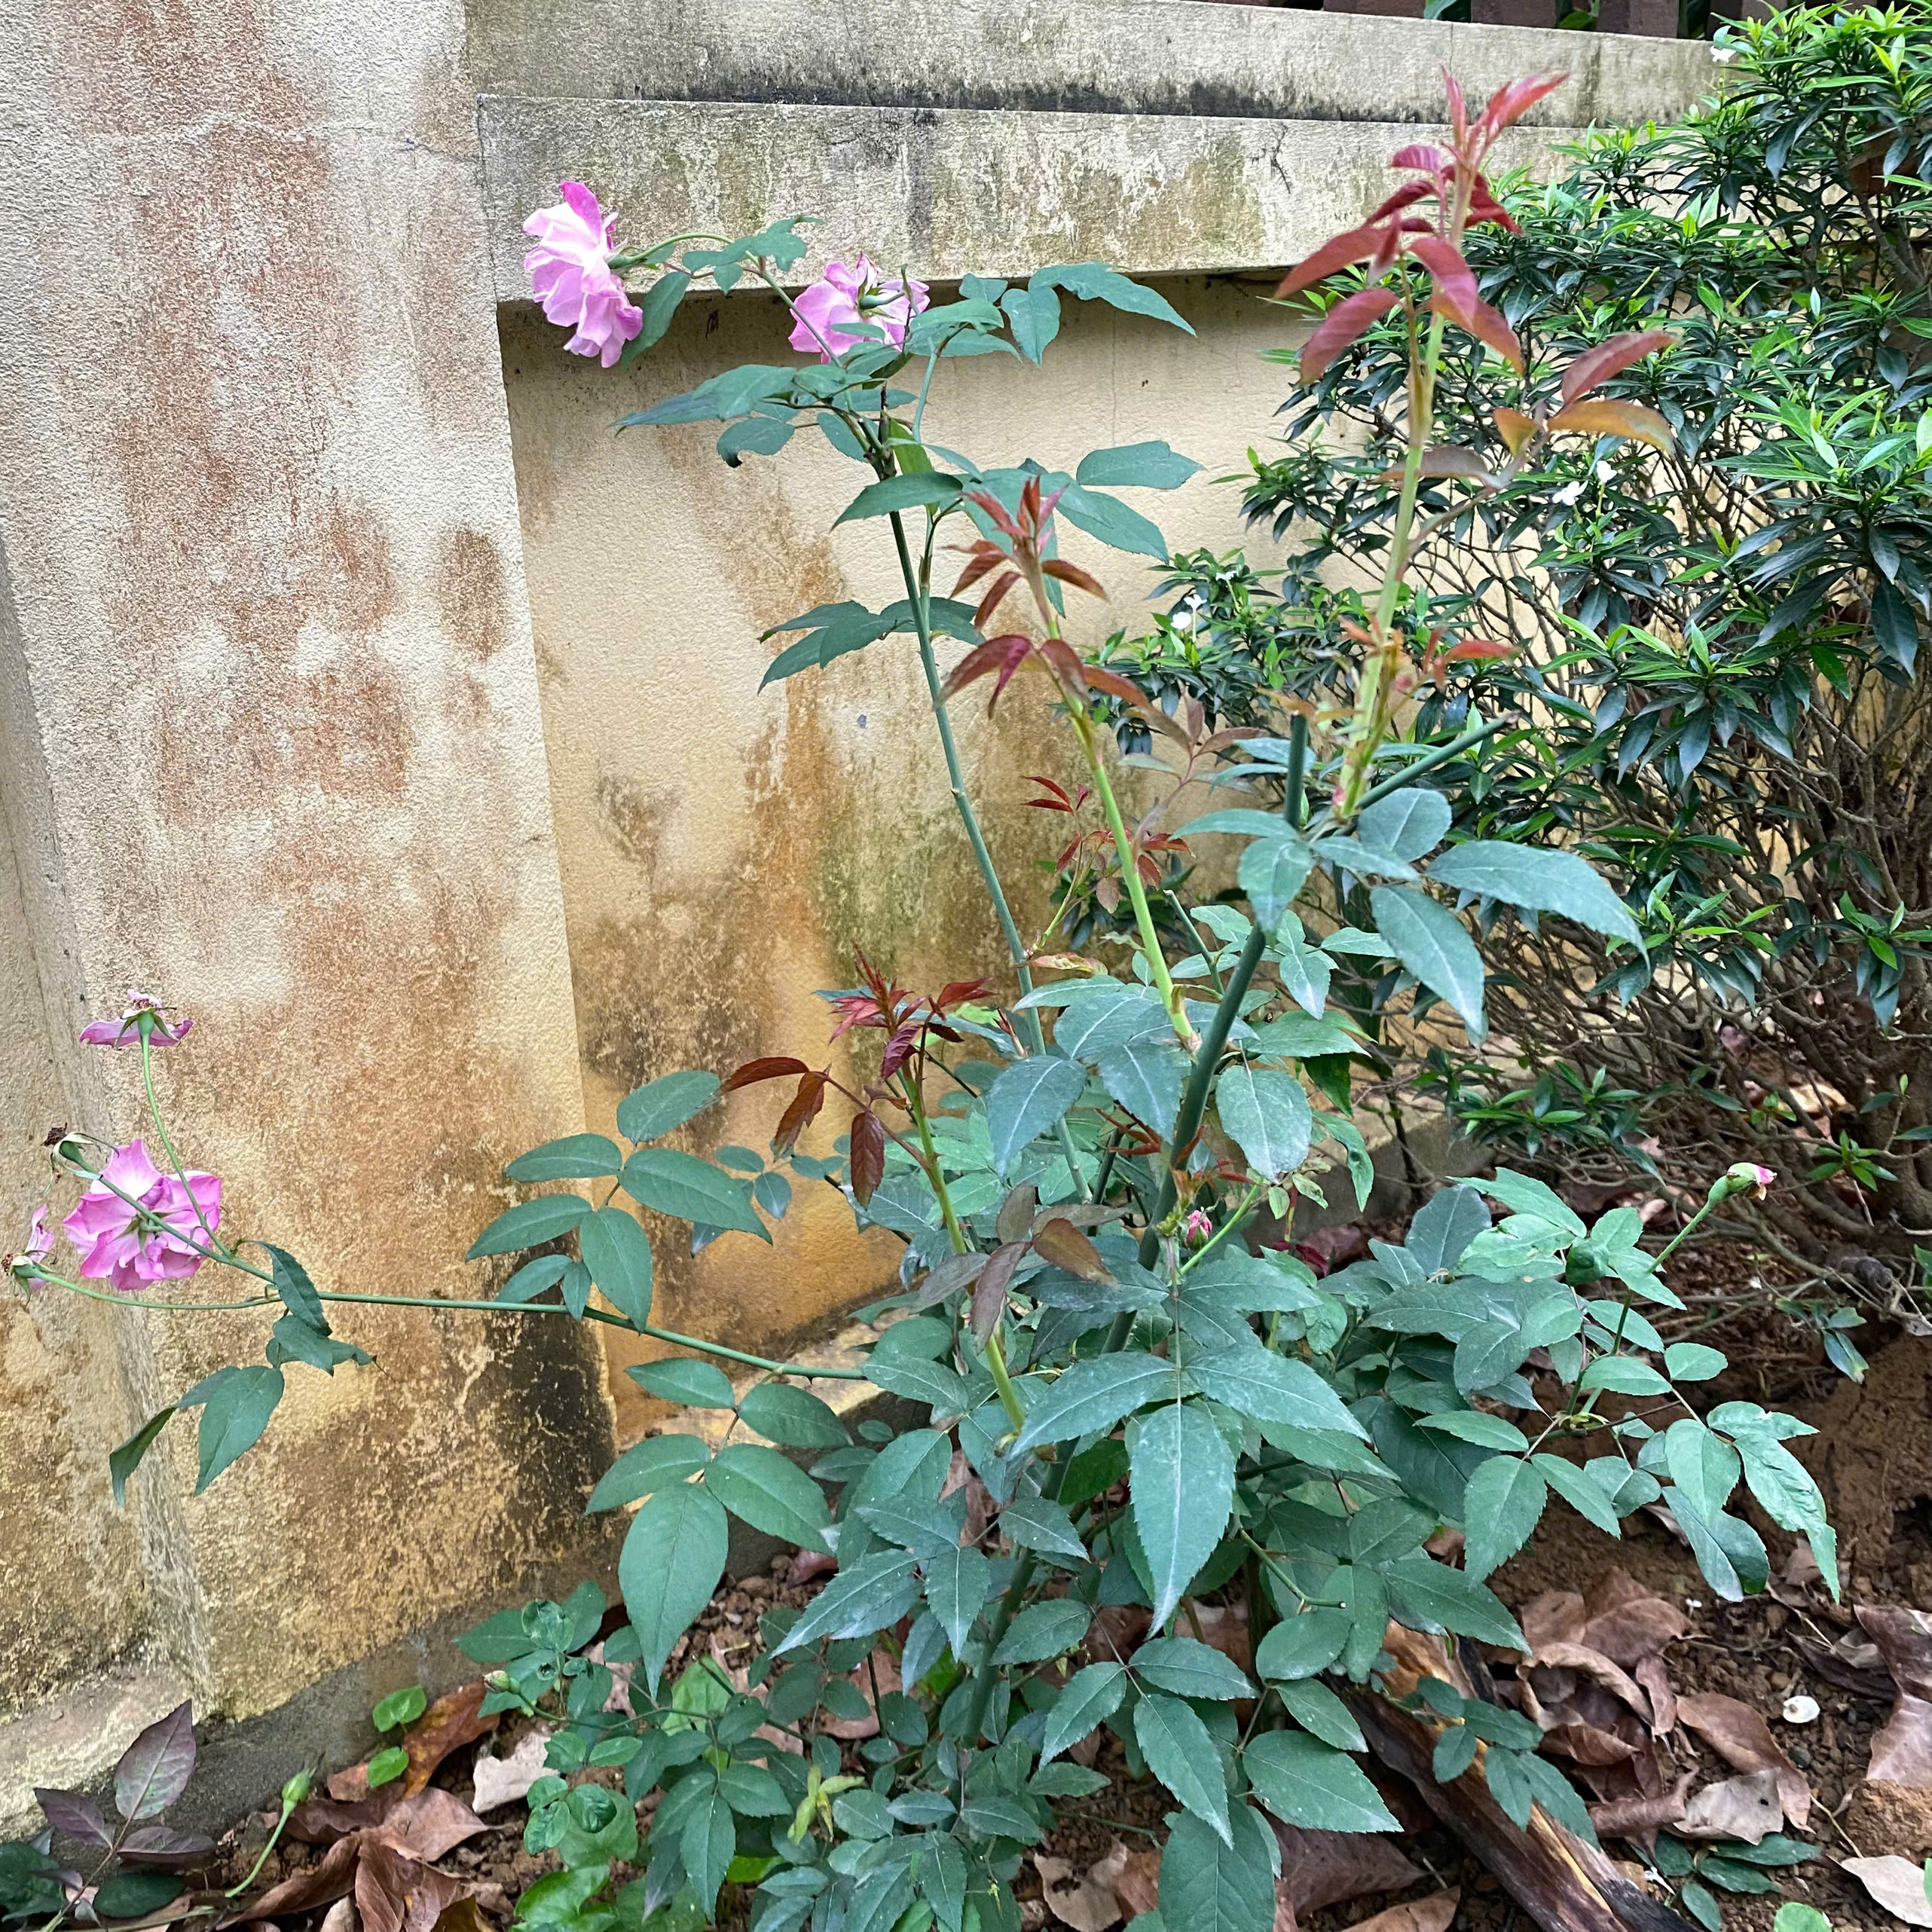hoa_hong_phan: (368, 97, 1706, 1049)
